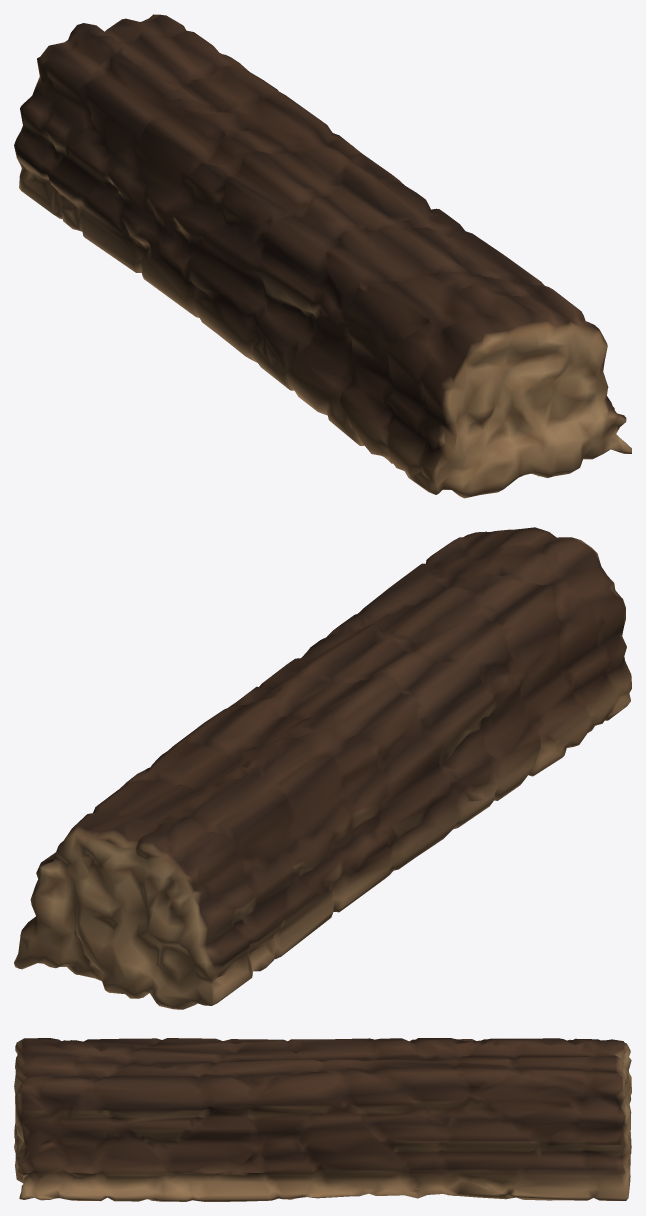
The model's file is ember_split_log.glb.
3 renders of one model, top to bottom at view 1: azimuth 30°, elevation 25°; view 2: azimuth 150°, elevation 25°; view 3: azimuth 270°, elevation 25°, orthographic. The views are drawn at different scales.
Parts seen in each view (by area): view 1: ember_split_log; view 2: ember_split_log; view 3: ember_split_log.
Boxes of the visible parts, x1=… form: ember_split_log: x1=14, y1=14, x2=631, y2=498; ember_split_log: x1=14, y1=527, x2=631, y2=1009; ember_split_log: x1=14, y1=1038, x2=631, y2=1201.
Bounding box in the file's own units: 16.03 × 12.38 × 56.94.
